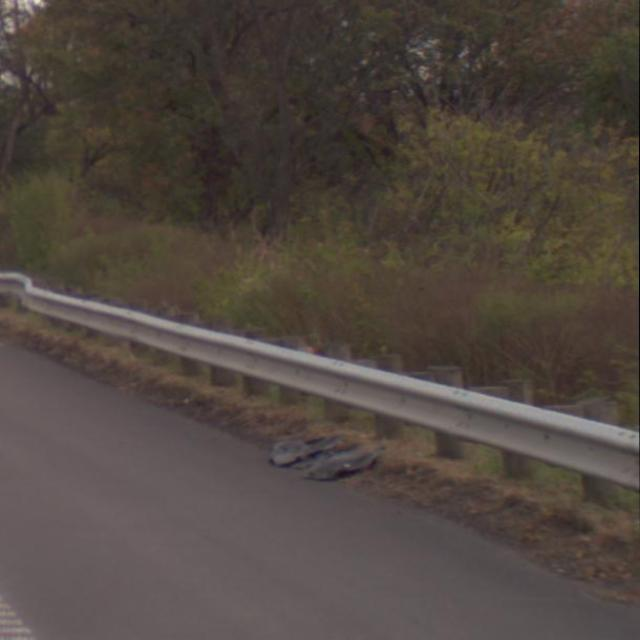Guard rail: (0, 265, 640, 525)
